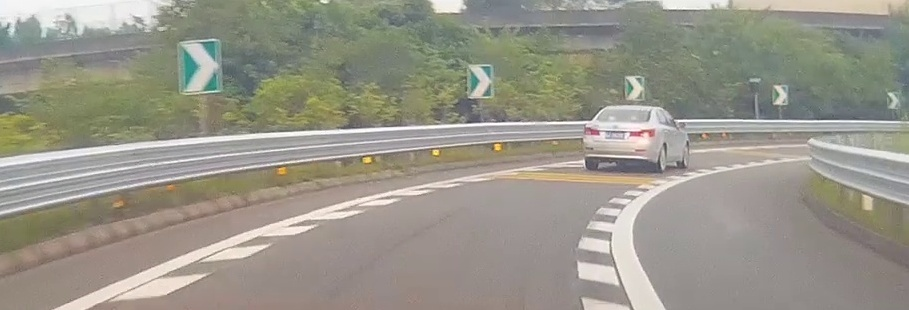L_light: (584, 126, 599, 135)
R_light: (630, 129, 655, 137)
T_light: (622, 109, 632, 112)
day-right: (583, 106, 656, 173)
